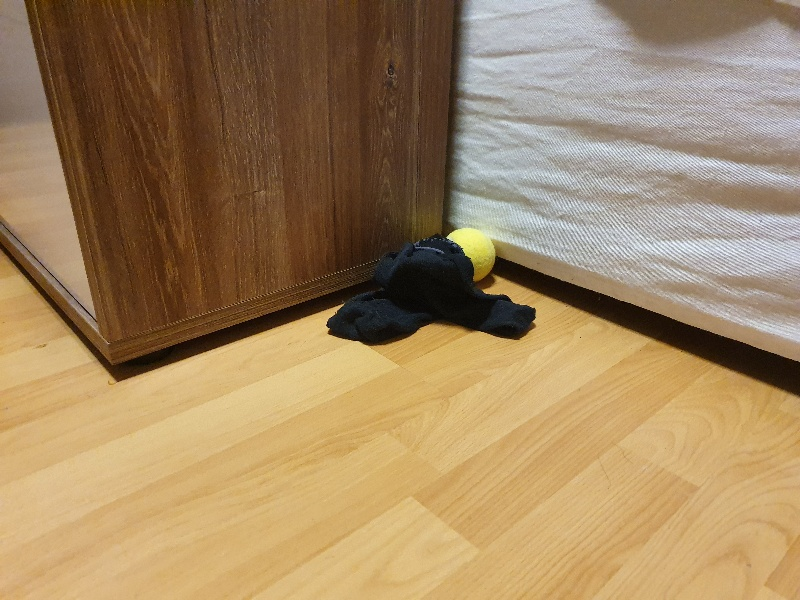Tennisball: (439, 224, 510, 286)
